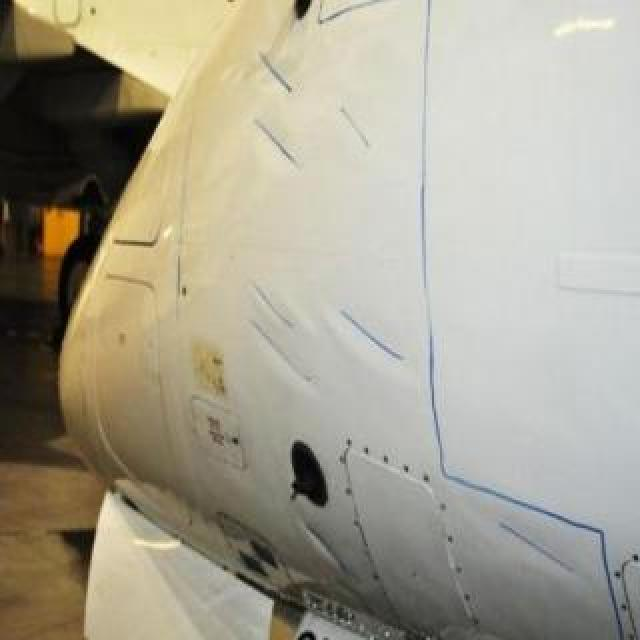dent: (489, 511, 597, 597), (337, 299, 411, 369), (243, 312, 311, 388), (303, 518, 361, 588), (252, 115, 298, 171)
